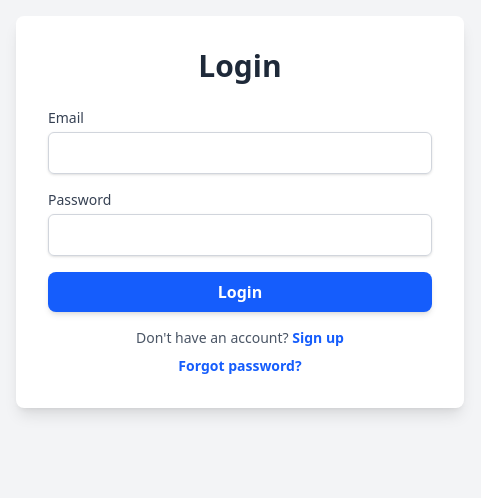
Scenario: Flow 3: Login › edge: auth.signIn returns emailNotVerified → error shown + "Resend Verification Email" button visible
Type "unverified@pitt.edu" into the field labelled "Email" at (240, 153), box [48, 132, 432, 174]
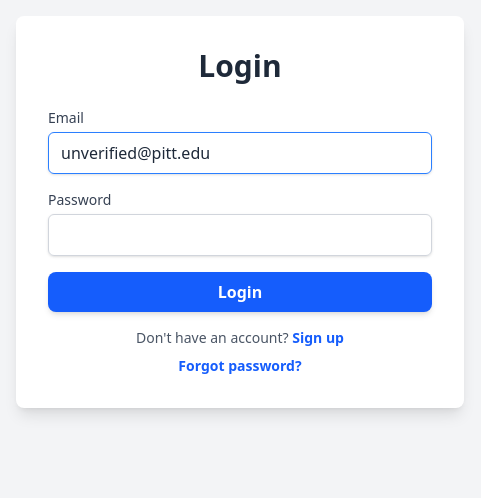
Type "mypassword" into the password field labelled "Password" at (240, 235), box [48, 214, 432, 256]
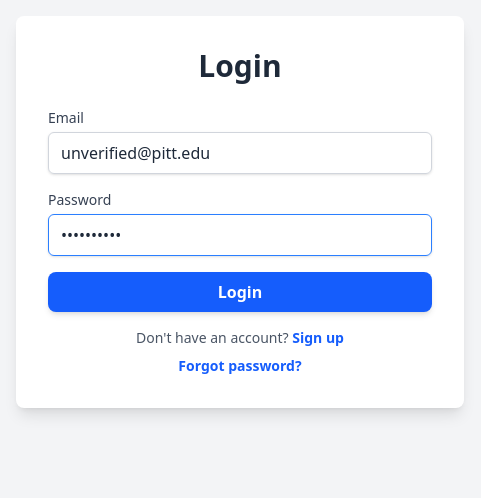
Click the submit button at (240, 292), box [48, 272, 432, 312]
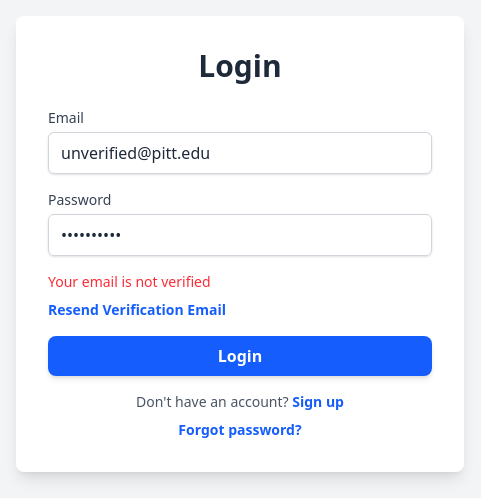
Check: the button "Resend Verification Email" is shown, box [48, 300, 432, 320]
